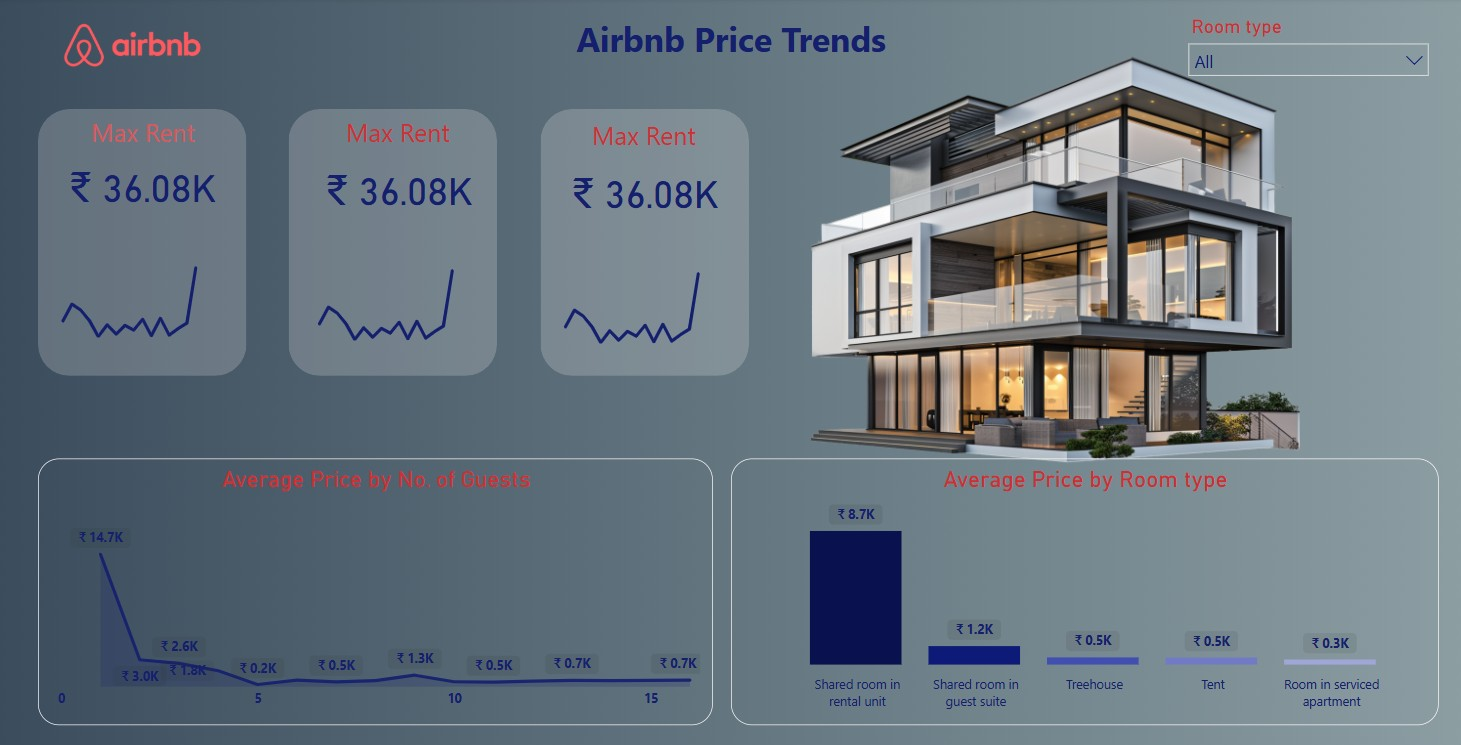

The page's visual inventory and layout, read from the dashboard file:
{"tool":"powerbi","page":{"name":"Page 1","canvas":[1400,720],"ordinal":0},"visuals":[{"type":"image","box":[642.9,14.3,731.4,475.7],"z":0},{"type":"image","box":[0,0,260,95.7],"z":1000},{"type":"shape","box":[279,109,198.6,254.3],"z":2000},{"type":"textbox","box":[55.7,108.6,168.6,42.9],"z":3000},{"type":"card","fields":{"Values":["Max(Airbnb India.Pricing)"]},"box":[284.3,151,198.6,64.3],"z":4000},{"type":"lineChart","fields":{"Y":["Sum(Airbnb India.Pricing)"],"Category":["Airbnb India.No. of Guests"]},"box":[284.3,235.2,198.6,98.6],"z":5000},{"type":"shape","box":[40,109,198.6,254.3],"z":6000},{"type":"textbox","box":[298.6,108.6,168.6,42.9],"z":7000},{"type":"card","fields":{"Values":["Max(Airbnb India.Pricing)"]},"box":[40,148.6,198.6,64.3],"z":8000},{"type":"lineChart","fields":{"Y":["Sum(Airbnb India.Pricing)"],"Category":["Airbnb India.No. of Guests"]},"box":[40,232.9,198.6,98.6],"z":9000},{"type":"shape","box":[518.1,109,198.6,254.3],"z":10000},{"type":"card","fields":{"Values":["Max(Airbnb India.Pricing)"]},"box":[518.1,154.3,198.6,64.3],"z":11000},{"type":"lineChart","fields":{"Y":["Sum(Airbnb India.Pricing)"],"Category":["Airbnb India.No. of Guests"]},"box":[518.1,238.6,198.6,98.6],"z":12000},{"type":"textbox","box":[532.4,111.9,168.6,42.9],"z":13000},{"type":"areaChart","title":"Average Price by No. of Guests","fields":{"Category":["Airbnb India.No. of Guests"],"Y":["Avg(Airbnb India.Pricing)"]},"box":[40,441.4,642.9,254.3],"z":13001},{"type":"columnChart","title":"Average Price by Room type","fields":{"Category":["Airbnb India.Room type"],"Y":["Avg(Airbnb India.Pricing)"]},"box":[700,441.4,674.3,254.3],"z":13002},{"type":"slicer","fields":{"Values":["Airbnb India.Room type"]},"box":[1125.7,14.3,248.6,67.1],"z":13003},{"type":"textbox","box":[514.3,14.3,371.4,68.6],"z":13004}]}

Visuals, with their boxes in screenshot pixels (x1, y1, x2, y2), scaled from the page's 1400x720 canvas onto the 1461x745 screenshot:
image: [left=671, top=15, right=1434, bottom=507]
image: [left=0, top=0, right=271, bottom=99]
shape: [left=291, top=113, right=498, bottom=376]
textbox: [left=58, top=112, right=234, bottom=157]
card - Max(Airbnb India.Pricing): [left=297, top=156, right=504, bottom=223]
lineChart - Sum(Airbnb India.Pricing) x Airbnb India.No. of Guests: [left=297, top=243, right=504, bottom=345]
shape: [left=42, top=113, right=249, bottom=376]
textbox: [left=312, top=112, right=488, bottom=157]
card - Max(Airbnb India.Pricing): [left=42, top=154, right=249, bottom=220]
lineChart - Sum(Airbnb India.Pricing) x Airbnb India.No. of Guests: [left=42, top=241, right=249, bottom=343]
shape: [left=541, top=113, right=748, bottom=376]
card - Max(Airbnb India.Pricing): [left=541, top=160, right=748, bottom=226]
lineChart - Sum(Airbnb India.Pricing) x Airbnb India.No. of Guests: [left=541, top=247, right=748, bottom=349]
textbox: [left=556, top=116, right=732, bottom=160]
"Average Price by No. of Guests" areaChart: [left=42, top=457, right=713, bottom=720]
"Average Price by Room type" columnChart: [left=730, top=457, right=1434, bottom=720]
slicer - Airbnb India.Room type: [left=1175, top=15, right=1434, bottom=84]
textbox: [left=537, top=15, right=924, bottom=86]
